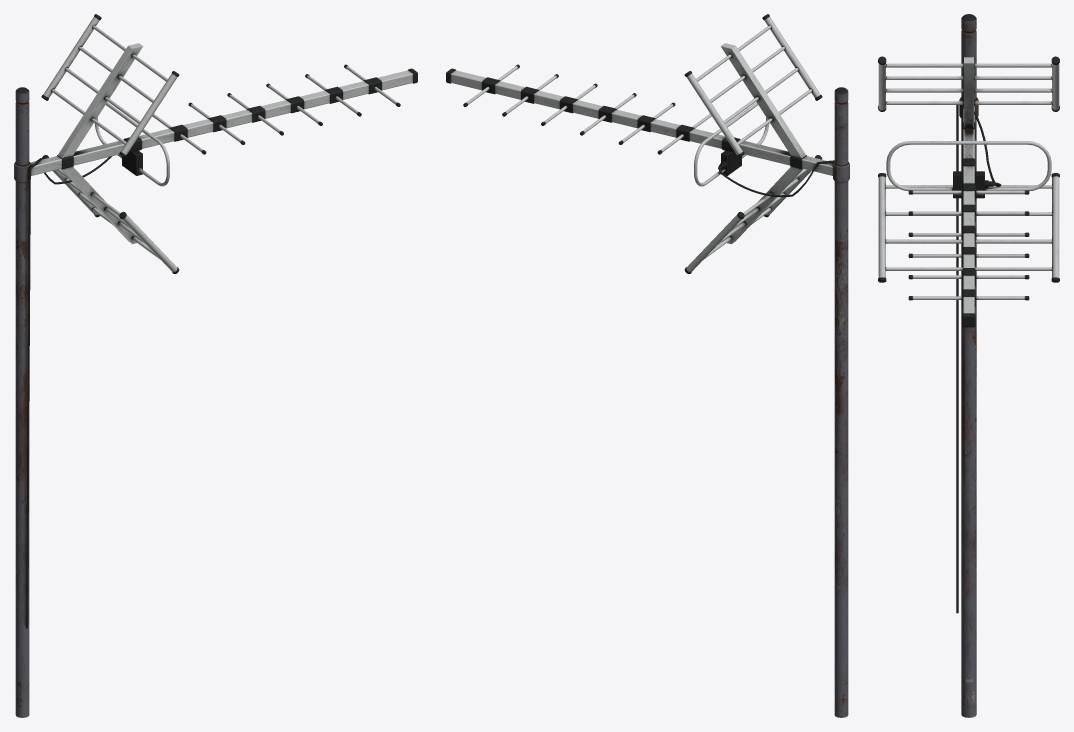
Rendered from antenna.glb.
3 renders of one model, left to right at view 1: azimuth 30°, elevation 25°; view 2: azimuth 150°, elevation 25°; view 3: azimuth 270°, elevation 25°, orthographic. The views are drawn at different scales.
Parts seen in each view (by area): view 1: Cylinder_2, Cube, Cube_3, Sweep, Sweep_1, Sweep_2, Sweep_1_1, Sweep_2_1, Sweep_2_2; view 2: Cylinder_2, Cube, Cube_3, Sweep_1, Sweep_2, Sweep_1_1, Sweep_2_1, Sweep_2_2; view 3: Cylinder_2, Sweep_2, Sweep_2_1, Cube, Sweep_1_1, Sweep, Sweep_2_2, Sweep_1, Cube_3, Cylinder_1_instance_4, Cylinder_1_instance_5, Cube_1 (+4 smaller).
Boxes of the visible parts, x1,y1,x2,y2 form: Cylinder_2: (14, 87, 30, 717); Cube: (30, 68, 417, 175); Cube_3: (57, 43, 143, 244); Sweep: (26, 156, 111, 628); Sweep_1: (41, 14, 179, 157); Sweep_2: (51, 25, 167, 144); Sweep_1_1: (41, 155, 179, 273); Sweep_2_1: (57, 169, 160, 259); Sweep_2_2: (94, 102, 169, 186); Cylinder_2: (833, 87, 849, 717); Cube: (446, 68, 833, 175); Cube_3: (720, 43, 806, 244); Sweep_1: (684, 14, 822, 157); Sweep_2: (696, 25, 812, 144); Sweep_1_1: (684, 155, 822, 273); Sweep_2_1: (703, 169, 806, 259); Sweep_2_2: (694, 102, 769, 186); Cylinder_2: (959, 14, 978, 717); Sweep_2: (885, 63, 1052, 104); Sweep_2_1: (885, 185, 1052, 270); Cube: (962, 106, 975, 327); Sweep_1_1: (878, 173, 1059, 282); Sweep: (956, 105, 1001, 613); Sweep_2_2: (886, 141, 1051, 191); Sweep_1: (878, 56, 1059, 111); Cube_3: (962, 57, 975, 139); Cylinder_1_instance_4: (908, 211, 1029, 215); Cylinder_1_instance_5: (908, 190, 1029, 194); Cube_1: (953, 171, 984, 198).
Size of the model in its own units: 1.34 by 2.06 by 0.4715.
Materials: 1 (1 with a texture image).
